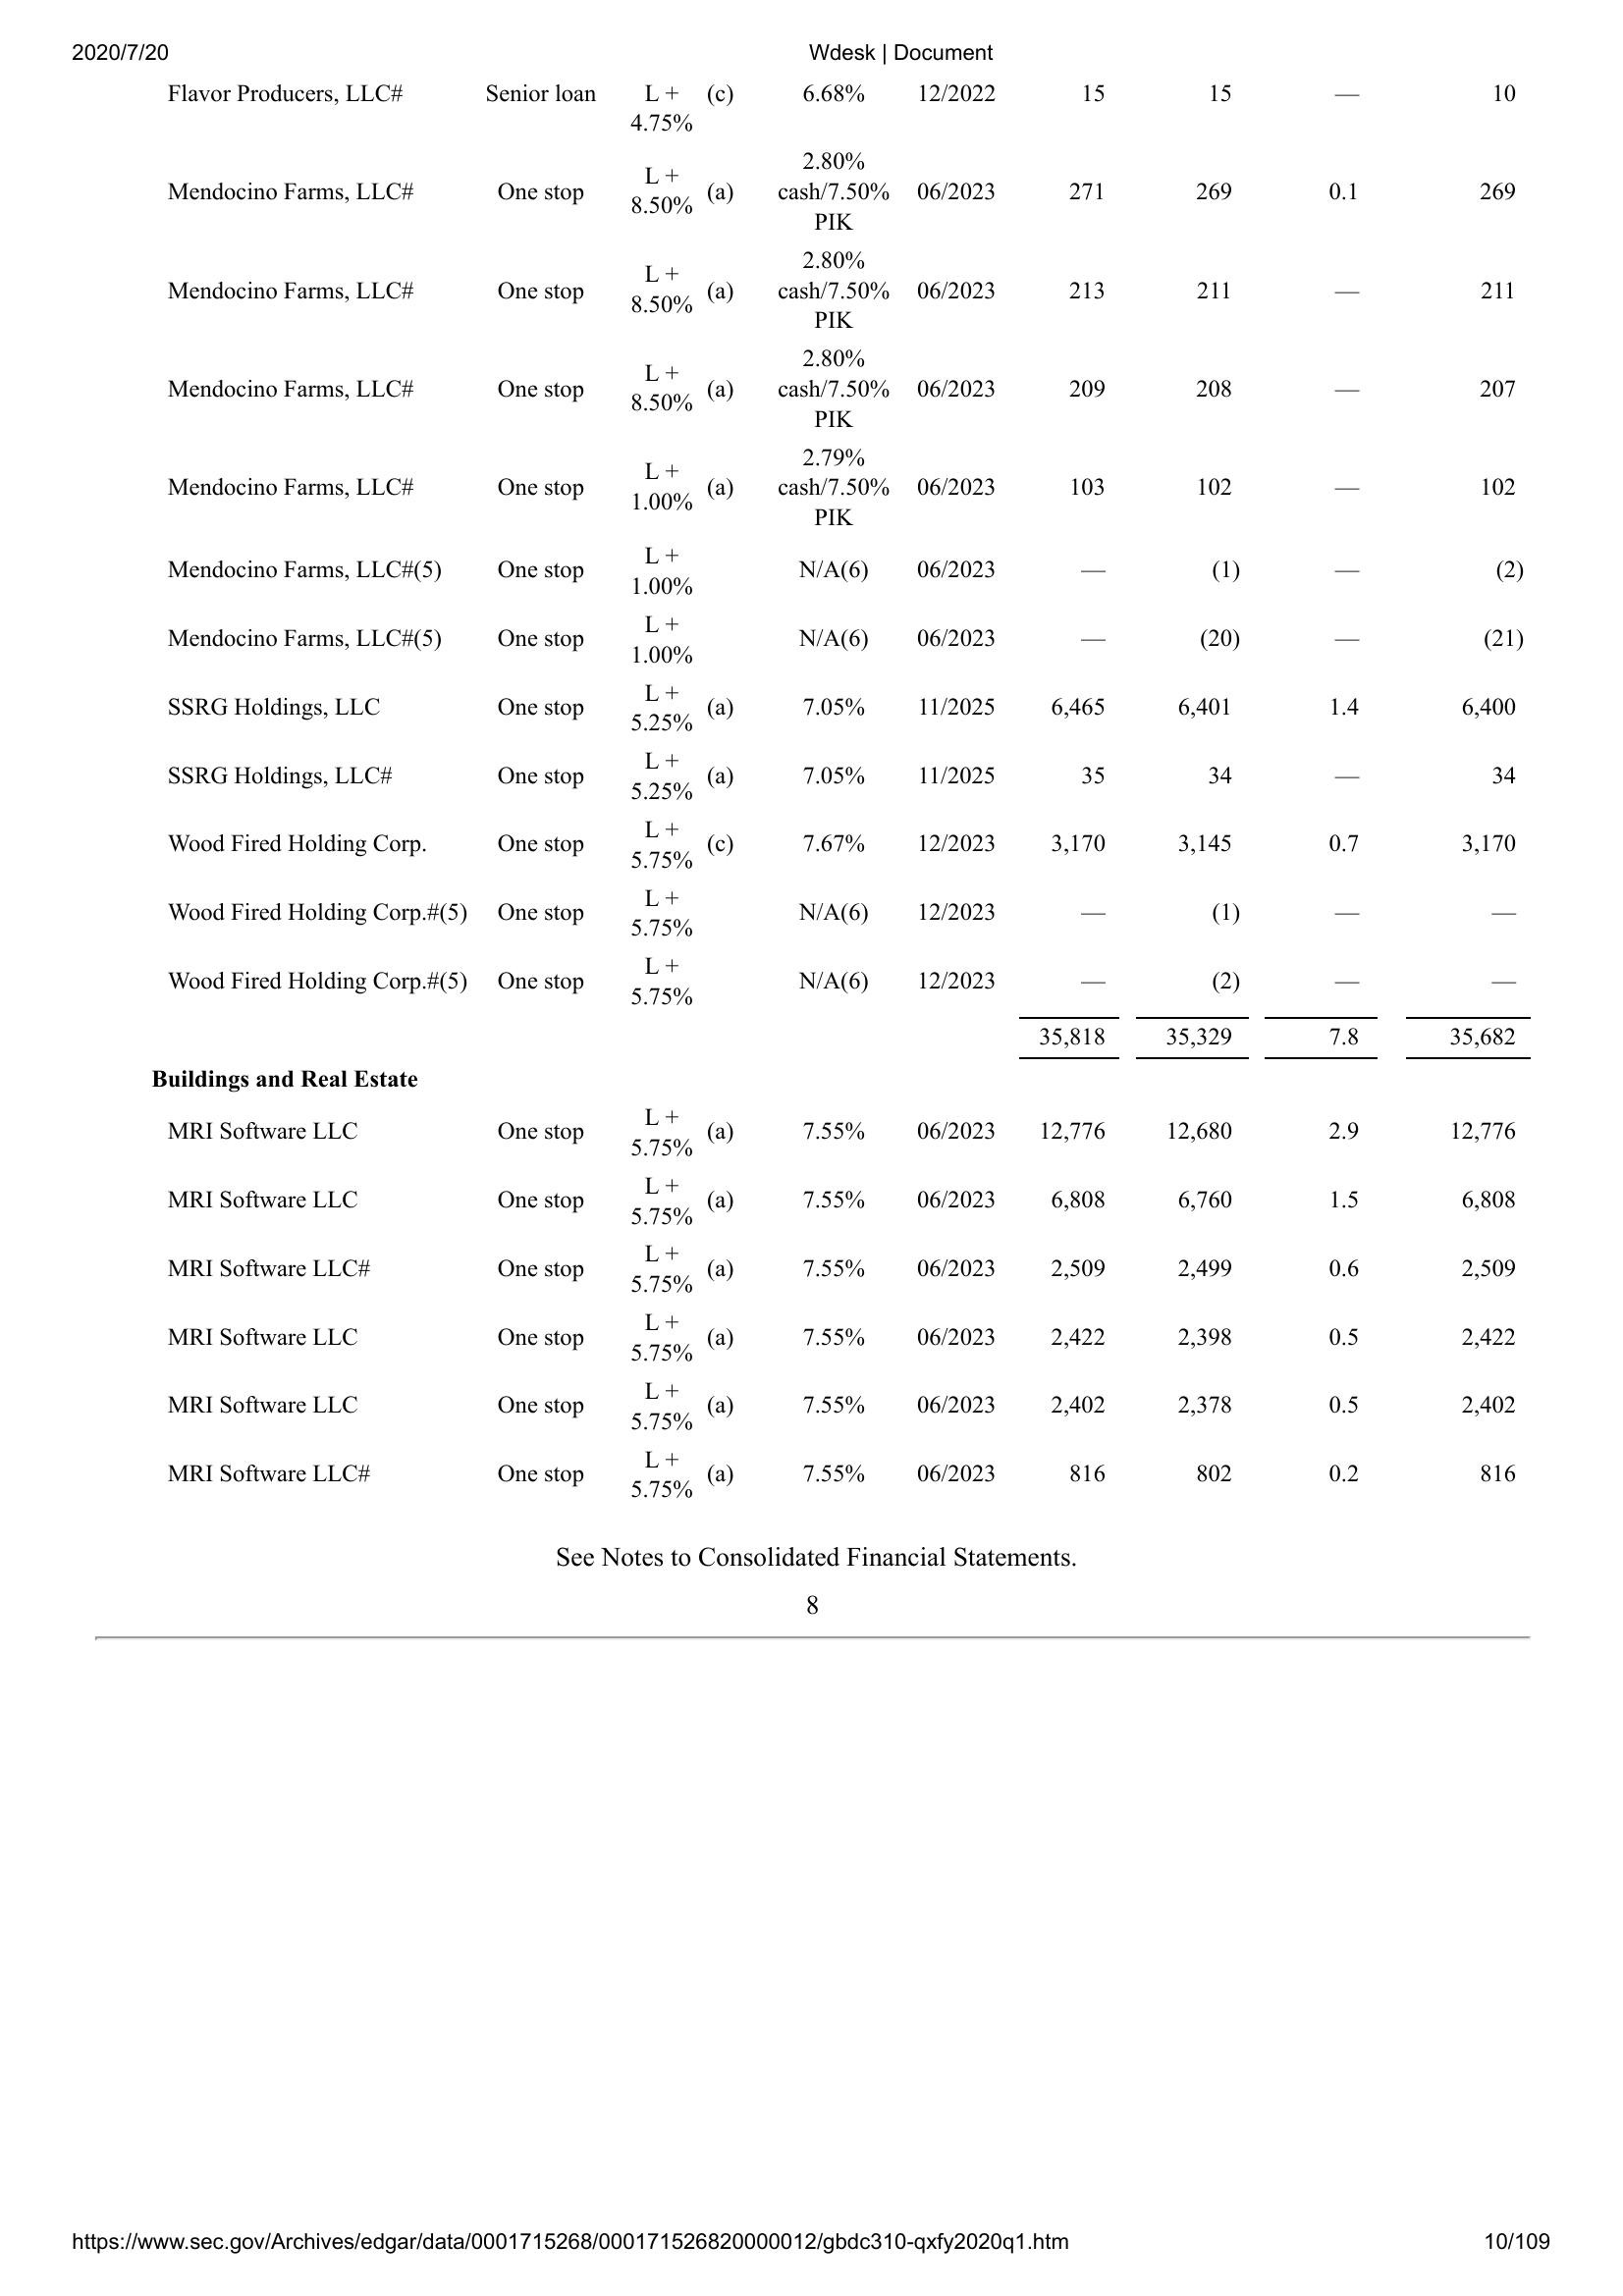table: (160, 60, 1540, 1504)
